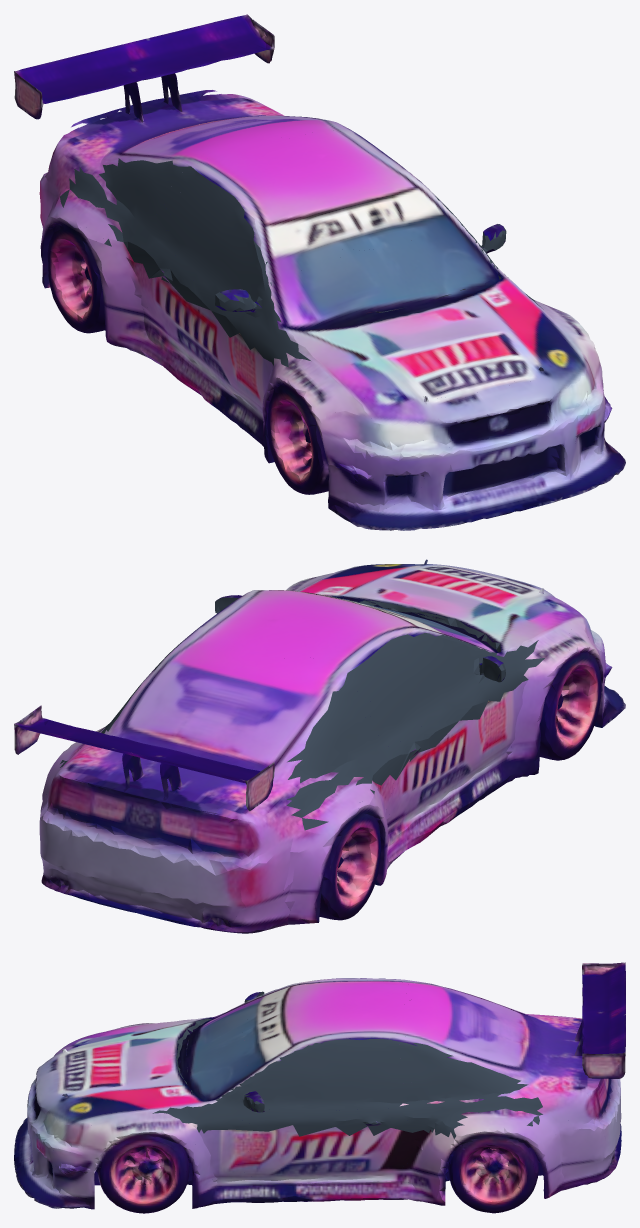
File: supergt3.glb
The picture shows the model from 3 angles, top to bottom: view 1: azimuth 30°, elevation 25°; view 2: azimuth 150°, elevation 25°; view 3: azimuth 270°, elevation 25°; orthographic projection. The views are drawn at different scales.
Visible parts, largest first — view 1: panel_hood, panel_bumper_f, panel_trunk, panel_roof, susp_front_L, glass_panel_roof, susp_rear_L, panel_door_L, glass_panel_trunk, glass_panel_door_L, glass_panel_hood, susp_front_R (+1 smaller); view 2: panel_trunk, panel_bumper_r, panel_hood, panel_roof, glass_panel_roof, panel_door_L, susp_rear_L, glass_panel_trunk, susp_front_L, panel_bumper_f, glass_panel_door_L, glass_panel_hood; view 3: panel_trunk, panel_hood, panel_door_R, panel_roof, glass_panel_roof, glass_panel_trunk, panel_bumper_f, susp_front_R, panel_bumper_r, wheel_rear_R, wheel_front_R, glass_panel_door_R (+2 smaller).
Boxes of the visible parts, x1=… form: panel_hood: x1=234, y1=232, x2=575, y2=441; panel_bumper_f: x1=264, y1=308, x2=625, y2=529; panel_trunk: x1=14, y1=14, x2=348, y2=348; panel_roof: x1=191, y1=128, x2=505, y2=312; susp_front_L: x1=205, y1=390, x2=453, y2=530; glass_panel_roof: x1=150, y1=159, x2=506, y2=317; susp_rear_L: x1=40, y1=217, x2=201, y2=395; panel_door_L: x1=140, y1=270, x2=256, y2=433; glass_panel_trunk: x1=60, y1=158, x2=187, y2=263; glass_panel_door_L: x1=143, y1=243, x2=254, y2=337; glass_panel_hood: x1=238, y1=236, x2=543, y2=367; susp_front_R: x1=553, y1=349, x2=625, y2=492; panel_trunk: x1=14, y1=634, x2=397, y2=861; panel_bumper_r: x1=39, y1=745, x2=379, y2=932; panel_hood: x1=292, y1=559, x2=573, y2=790; panel_roof: x1=188, y1=590, x2=504, y2=680; glass_panel_roof: x1=215, y1=597, x2=505, y2=748; panel_door_L: x1=387, y1=700, x2=502, y2=861; susp_rear_L: x1=200, y1=780, x2=446, y2=933; glass_panel_trunk: x1=60, y1=641, x2=389, y2=830; susp_front_L: x1=448, y1=618, x2=625, y2=822; panel_bumper_f: x1=286, y1=564, x2=625, y2=718; glass_panel_door_L: x1=386, y1=677, x2=493, y2=780; glass_panel_hood: x1=342, y1=598, x2=544, y2=701; panel_trunk: x1=396, y1=962, x2=625, y2=1205; panel_hood: x1=52, y1=1002, x2=256, y2=1207; panel_door_R: x1=235, y1=1121, x2=411, y2=1200; panel_roof: x1=241, y1=978, x2=413, y2=1112; glass_panel_roof: x1=245, y1=991, x2=415, y2=1112; glass_panel_trunk: x1=398, y1=1043, x2=542, y2=1138; panel_bumper_f: x1=14, y1=1023, x2=199, y2=1206; susp_front_R: x1=19, y1=1121, x2=316, y2=1213; panel_bumper_r: x1=454, y1=1079, x2=621, y2=1190; wheel_rear_R: x1=452, y1=1131, x2=538, y2=1212; wheel_front_R: x1=99, y1=1132, x2=186, y2=1213; glass_panel_door_R: x1=236, y1=1107, x2=412, y2=1136.
Bounding box in the file's own units: 1.72 × 1.13 × 4.
Materials: 2 (1 with a texture image).
